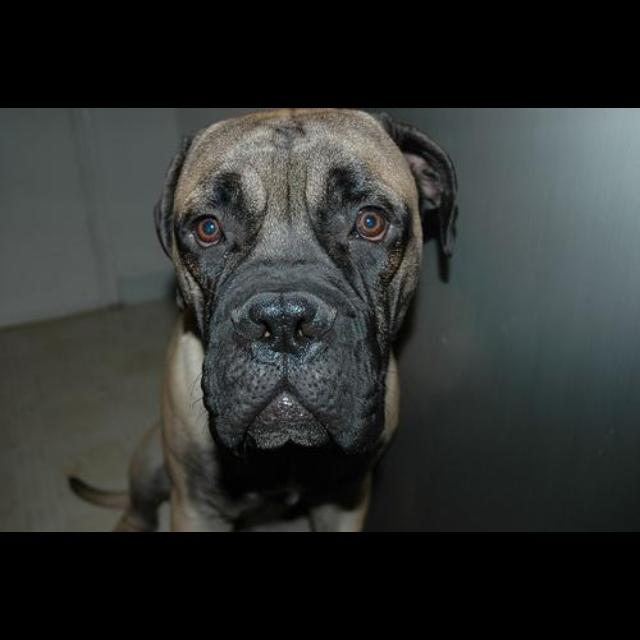bullmastiff: (68, 110, 460, 533)
